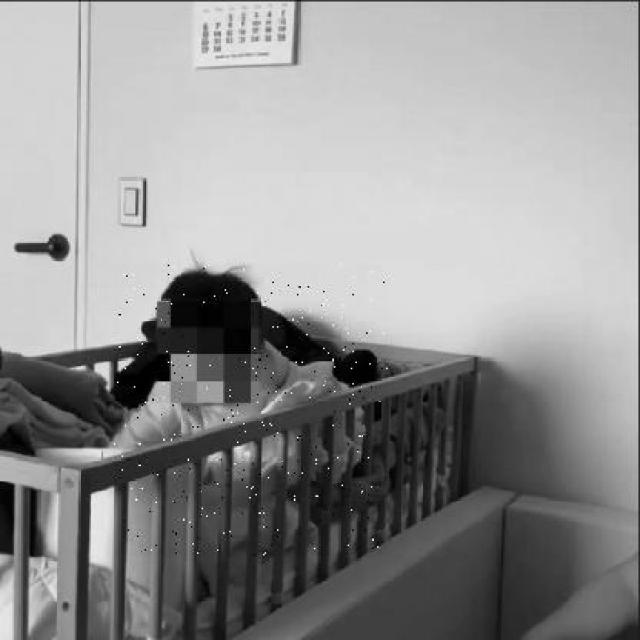child: (115, 265, 389, 556)
